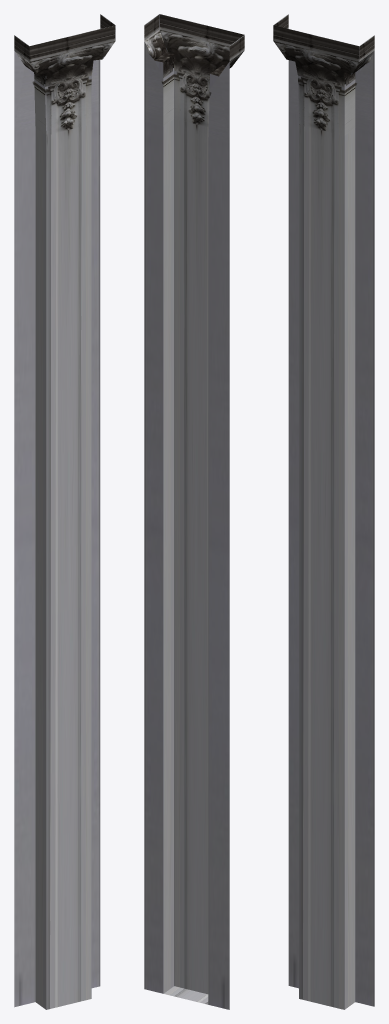
Rendered from pillar1.obj.
The picture shows the model from 3 angles, left to right: view 1: azimuth 30°, elevation 25°; view 2: azimuth 150°, elevation 25°; view 3: azimuth 330°, elevation 25°; orthographic projection.
Visible parts, largest first — view 1: pCylinder13; view 2: pCylinder13; view 3: pCylinder13.
Boxes of the visible parts, bbox=[...] form: pCylinder13: bbox=[14, 14, 115, 1009]; pCylinder13: bbox=[144, 14, 244, 1009]; pCylinder13: bbox=[273, 14, 374, 1009].
Size of the model in its own units: 0.3071 by 3.32 by 0.0955.
Materials: 1 (1 with a texture image).
